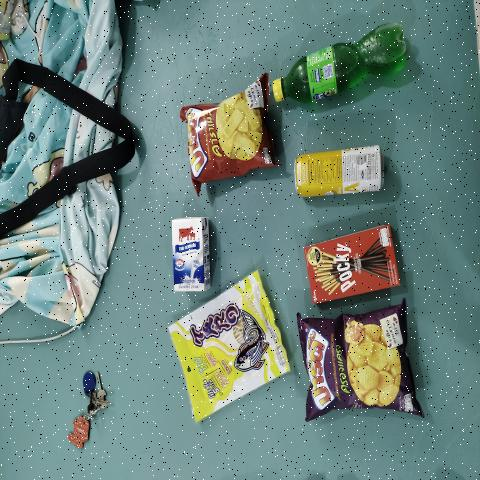fanta_green: (274, 30, 416, 110)
party_purple: (304, 320, 408, 408)
party_red: (186, 108, 262, 174)
pokki: (299, 238, 413, 301)
singha_yellow: (290, 149, 384, 195)
taro_yellow: (172, 285, 283, 399)
thai_denmark: (173, 216, 211, 290)
